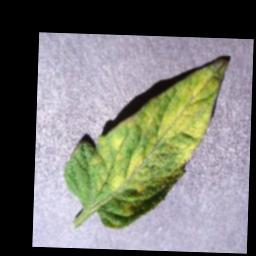Leaf_Mold: (85, 51, 228, 233)
